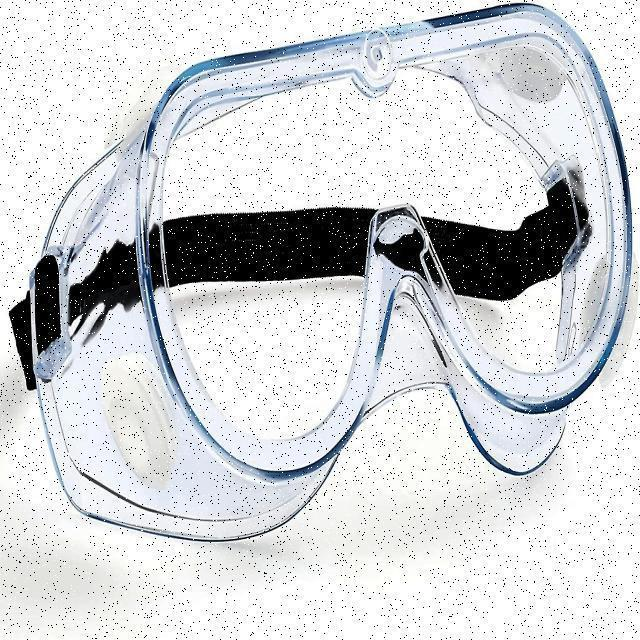Goggles: (6, 3, 638, 566)
